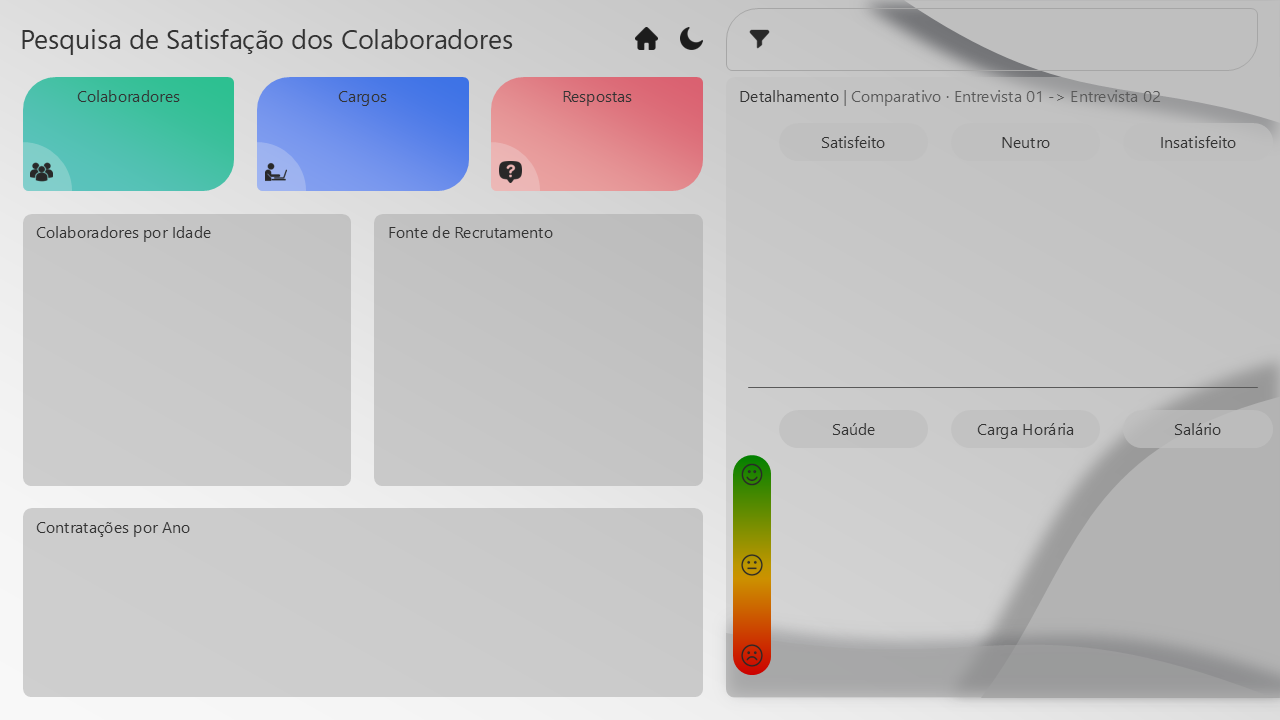

What the dashboard file says about the page in this screenshot:
{"tool":"powerbi","page":{"name":"Capa Light","canvas":[1280,720],"ordinal":2},"visuals":[{"type":"card","title":"Colaboradores","fields":{"Values":["bd_integrantes.qtde_funcionários"]},"box":[110,544,210,116.2],"z":0},{"type":"card","title":"Cargos","fields":{"Values":["bd_integrantes.qtde_cargos"]},"box":[110,360,210,116.2],"z":1000},{"type":"actionButton","box":[724.4,518,238,64.5],"z":2000},{"type":"actionButton","box":[1214,654.3,40,40],"z":3000}]}

Visuals, with their boxes in screenshot pixels (x1, y1, x2, y2), scaled from the page's 1280x720 canvas onto the 1280x720 screenshot:
"Colaboradores" card: x1=110 y1=544 x2=320 y2=660
"Cargos" card: x1=110 y1=360 x2=320 y2=476
actionButton: x1=724 y1=518 x2=962 y2=582
actionButton: x1=1214 y1=654 x2=1254 y2=694
